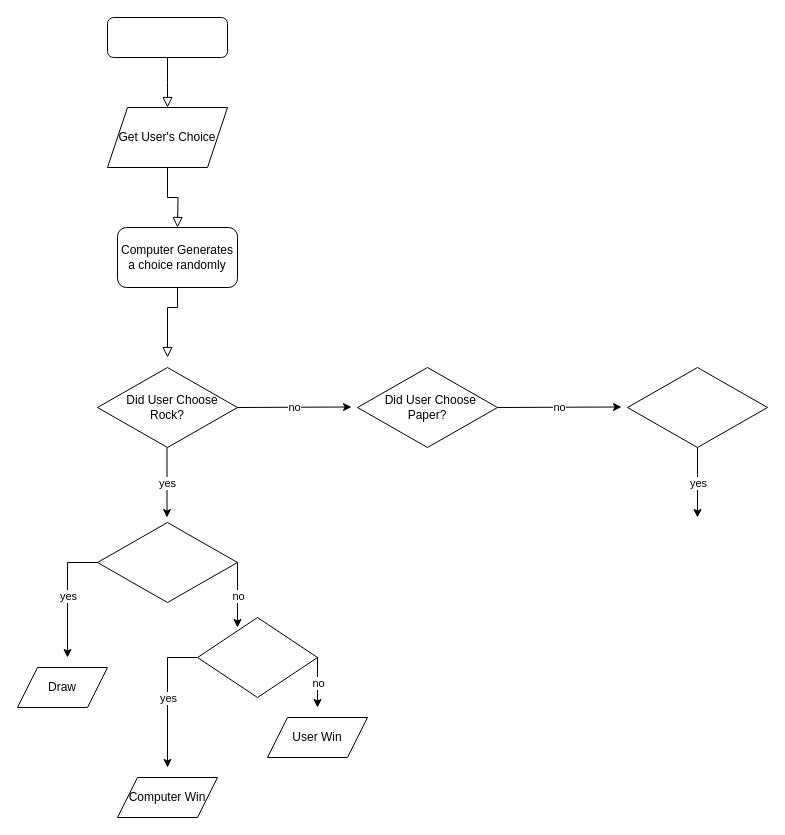
This 785x835 diagram has some shape labels left out. Each missing label, with the centre of its shape:
Did Computer Choose Paper?: (257,657)
Did Computer Choose Rock?: (167,562)
Did User Choose Scissors?: (697,407)
Start: (167,37)
